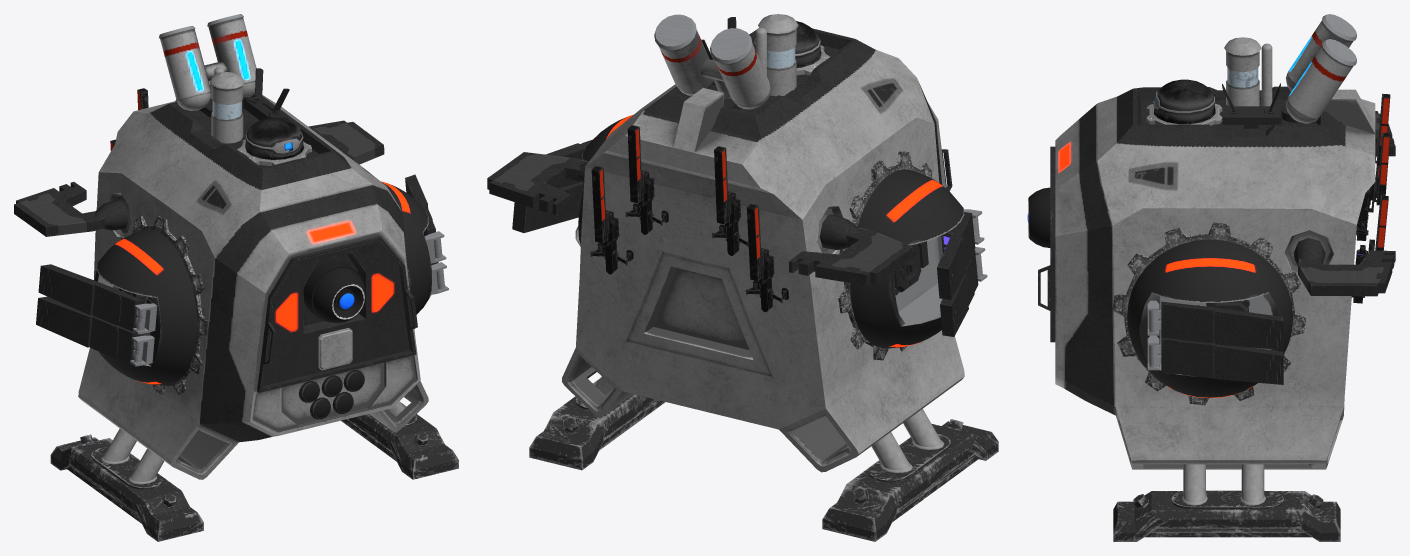
Rendered from Penguin_White.glb.
The picture shows the model from 3 angles, left to right: view 1: azimuth 30°, elevation 25°; view 2: azimuth 150°, elevation 25°; view 3: azimuth 270°, elevation 25°; orthographic projection. The views are drawn at different scales.
Visible parts, largest first — view 1: Penguin; view 2: Penguin; view 3: Penguin.
Boxes of the visible parts, <box> form: Penguin: <box>14,14,458,541</box>; Penguin: <box>487,14,998,541</box>; Penguin: <box>1027,14,1395,541</box>.
Bounding box in the file's own units: 1.46 × 1.49 × 1.14.
1 material, 1 textured.
